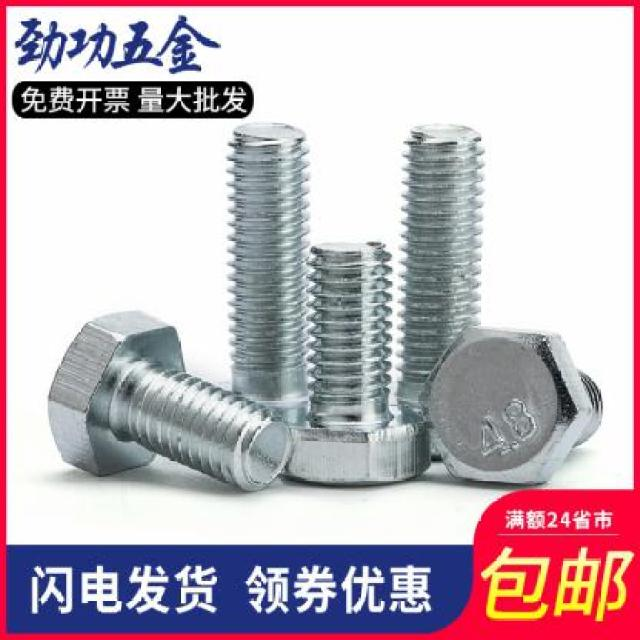Bolt: (45, 308, 294, 494), (283, 238, 433, 488), (394, 120, 486, 460), (417, 324, 607, 488), (224, 119, 312, 423)
